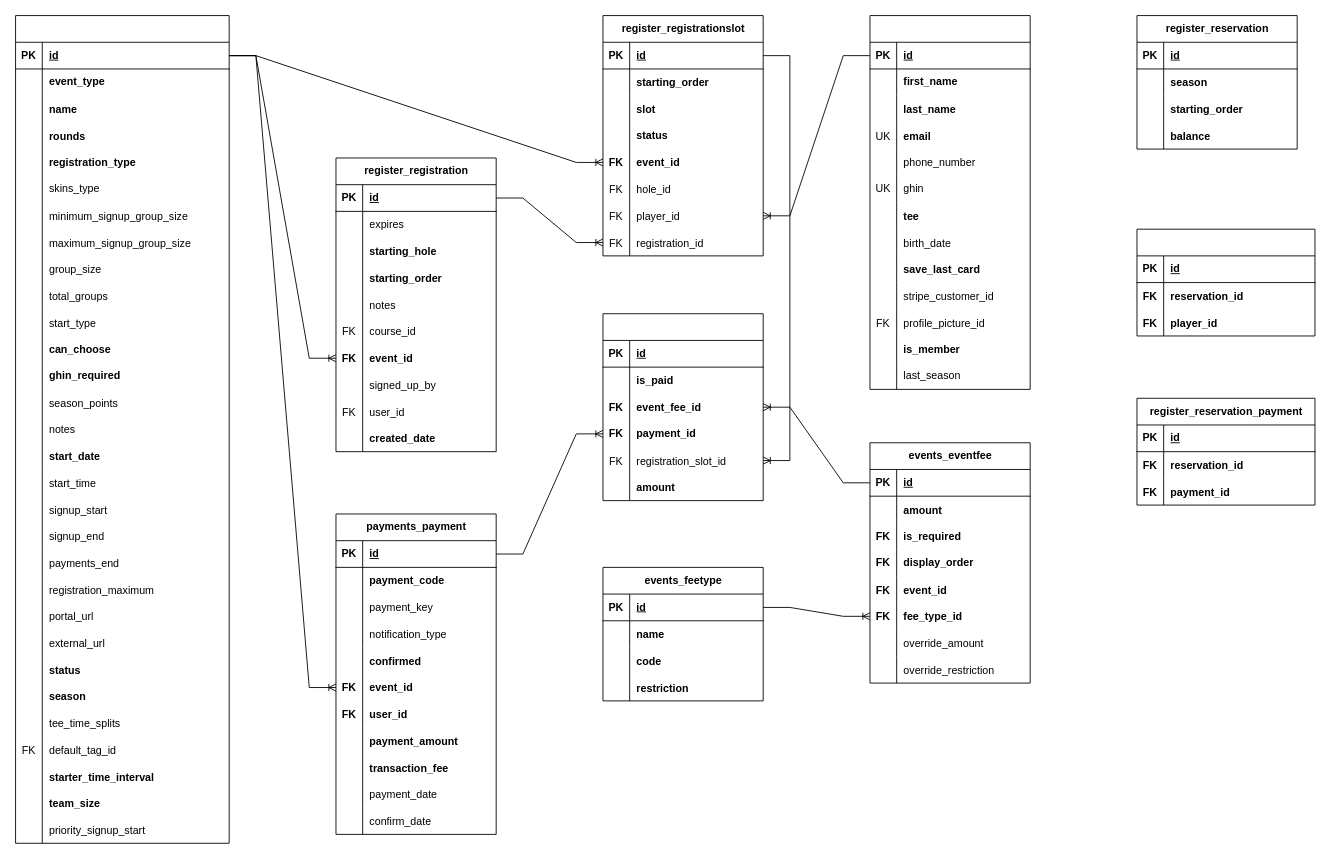
Some shapes in this 1331 by 859 pixel diagram are drawn without their labels. Here are the shapes that lost their labels. From the top down, the box of each, then its label:
(869, 15, 1030, 389): register_player
(1136, 228, 1315, 336): register_reservation_player
(602, 313, 763, 501): register_registrationfee
(15, 15, 229, 843): events_event
